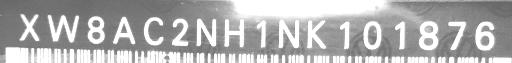letter: (46, 11, 80, 44), (110, 14, 138, 45), (16, 12, 42, 43), (142, 14, 166, 47), (222, 15, 246, 48), (304, 17, 328, 50), (276, 17, 300, 50), (416, 18, 440, 51), (194, 16, 218, 47), (446, 19, 468, 52), (84, 14, 106, 45), (474, 20, 496, 51), (169, 17, 191, 46), (362, 19, 382, 50), (393, 19, 409, 50), (338, 19, 352, 52), (254, 18, 268, 49)
